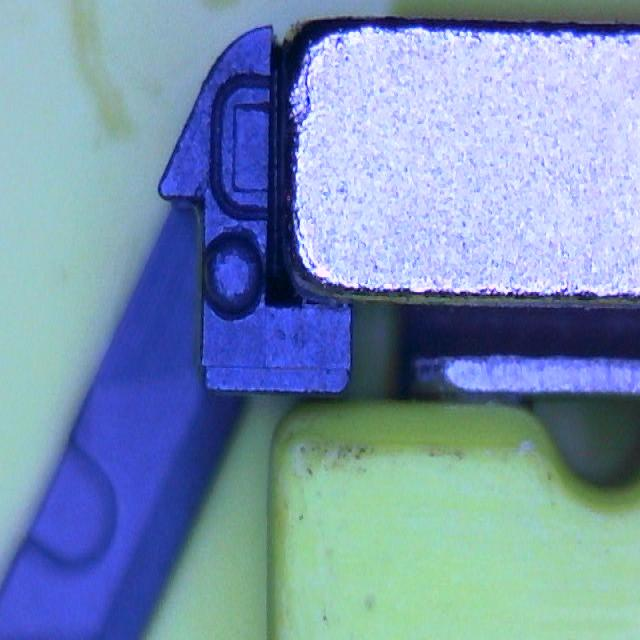lacking: (208, 70, 279, 222)
